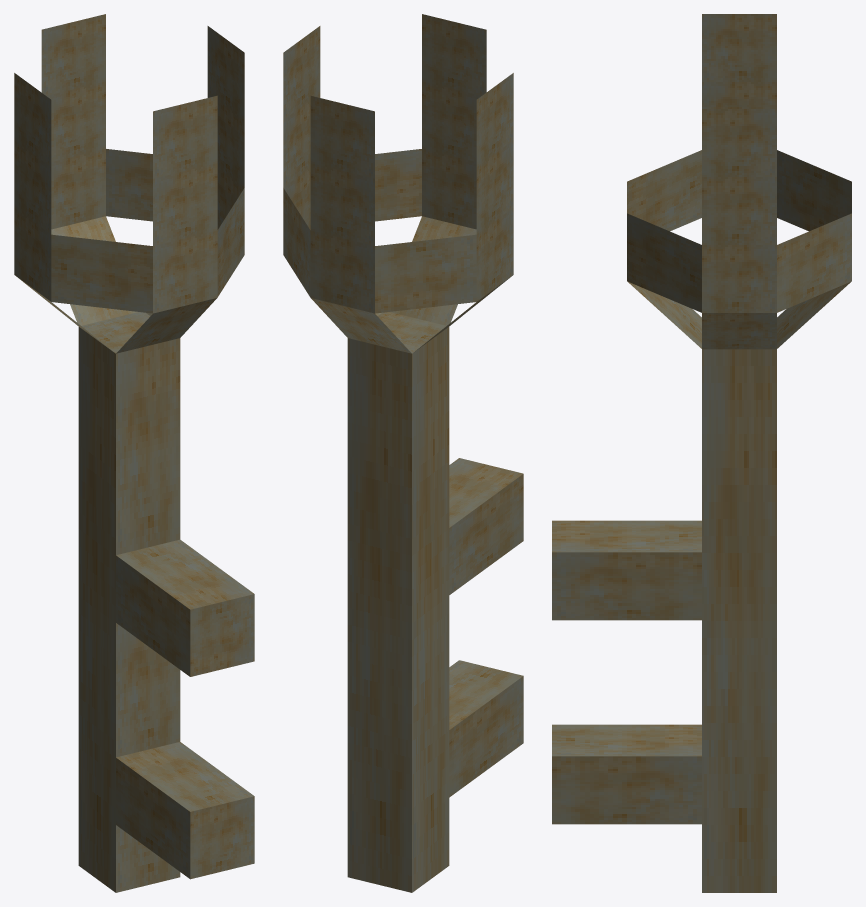
Rendered from sconce.glb.
3 views of the same model, side by side, from view 1: azimuth 30°, elevation 25°; view 2: azimuth 150°, elevation 25°; view 3: azimuth 270°, elevation 25° (orthographic).
Parts seen in each view (by area): view 1: sconce-col; view 2: sconce-col; view 3: sconce-col.
Boxes of the visible parts, x1,y1,x2,y2 form: sconce-col: (14, 14, 254, 892); sconce-col: (283, 14, 523, 892); sconce-col: (552, 14, 851, 892).
Bounding box in the file's own units: 0.3 × 1.2 × 0.4.
Materials: 1 (1 with a texture image).
